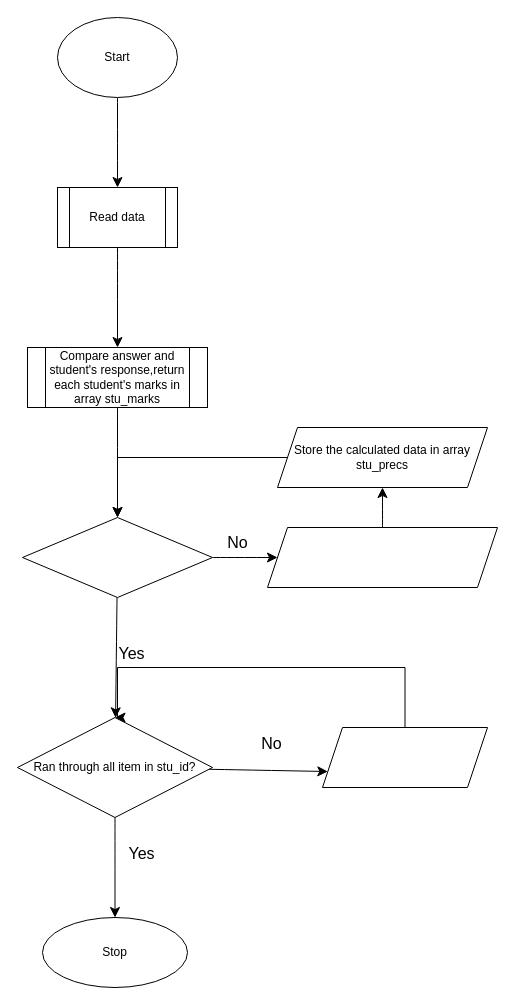
The diagram is 515 pixels wide and 1005 high, and some of its shapes have lost their labels. Here are the shapes that lost their labels. From the top down, the centre of each, then its label:
[117,557]: Ran through all item in stu_marks?
[382,557]: student's mark divided by the no. of questions times 100
[405,757]: Show student ID and corresponding marks and precentage
